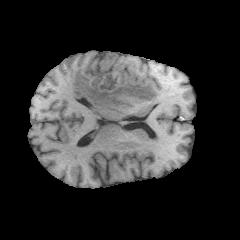glioma: (72, 60, 158, 113)
